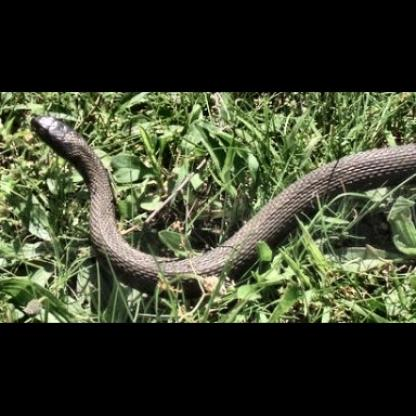Snake: (7, 108, 415, 308)
